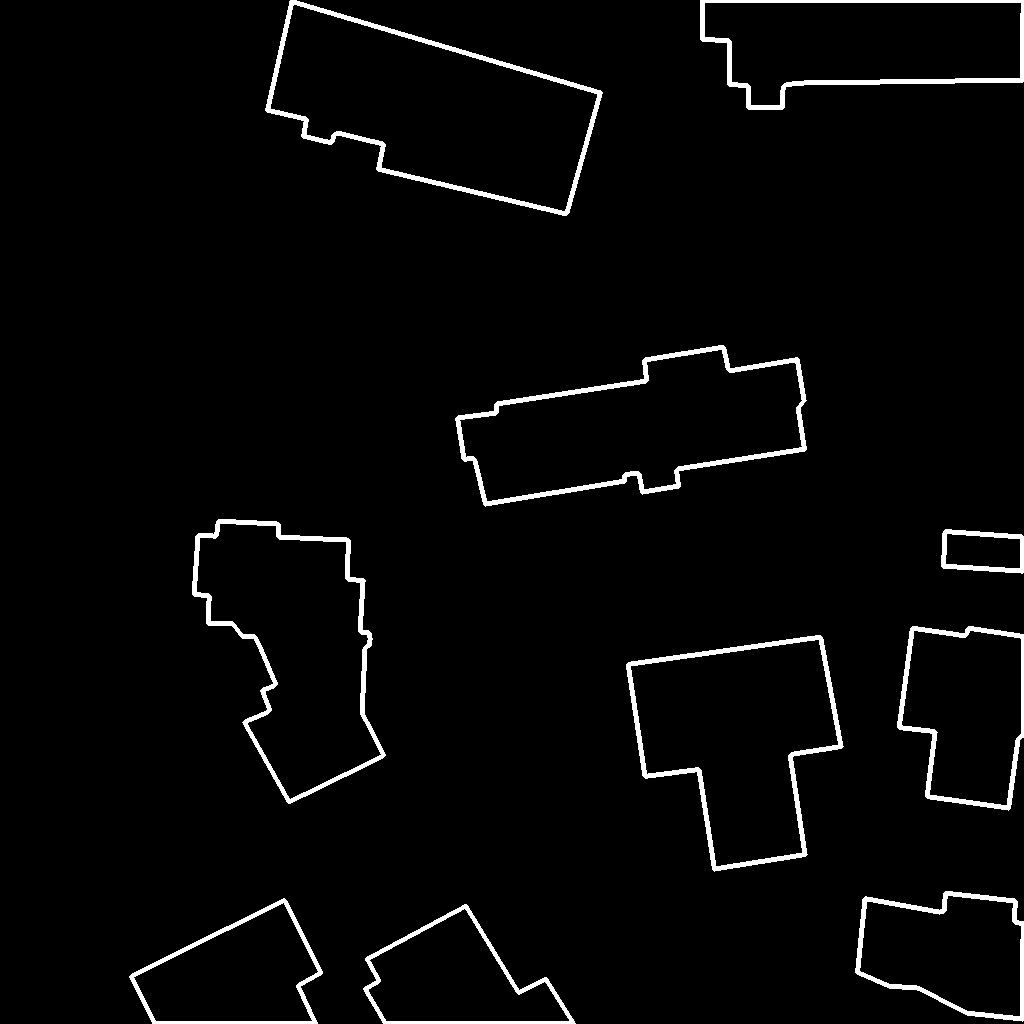building: (267, 1, 602, 215), (457, 347, 806, 505), (194, 521, 385, 803), (628, 637, 842, 870), (702, 0, 1024, 108), (365, 906, 575, 1024), (131, 900, 322, 1024), (899, 628, 1024, 809), (857, 893, 1024, 1020), (943, 531, 1024, 572)
